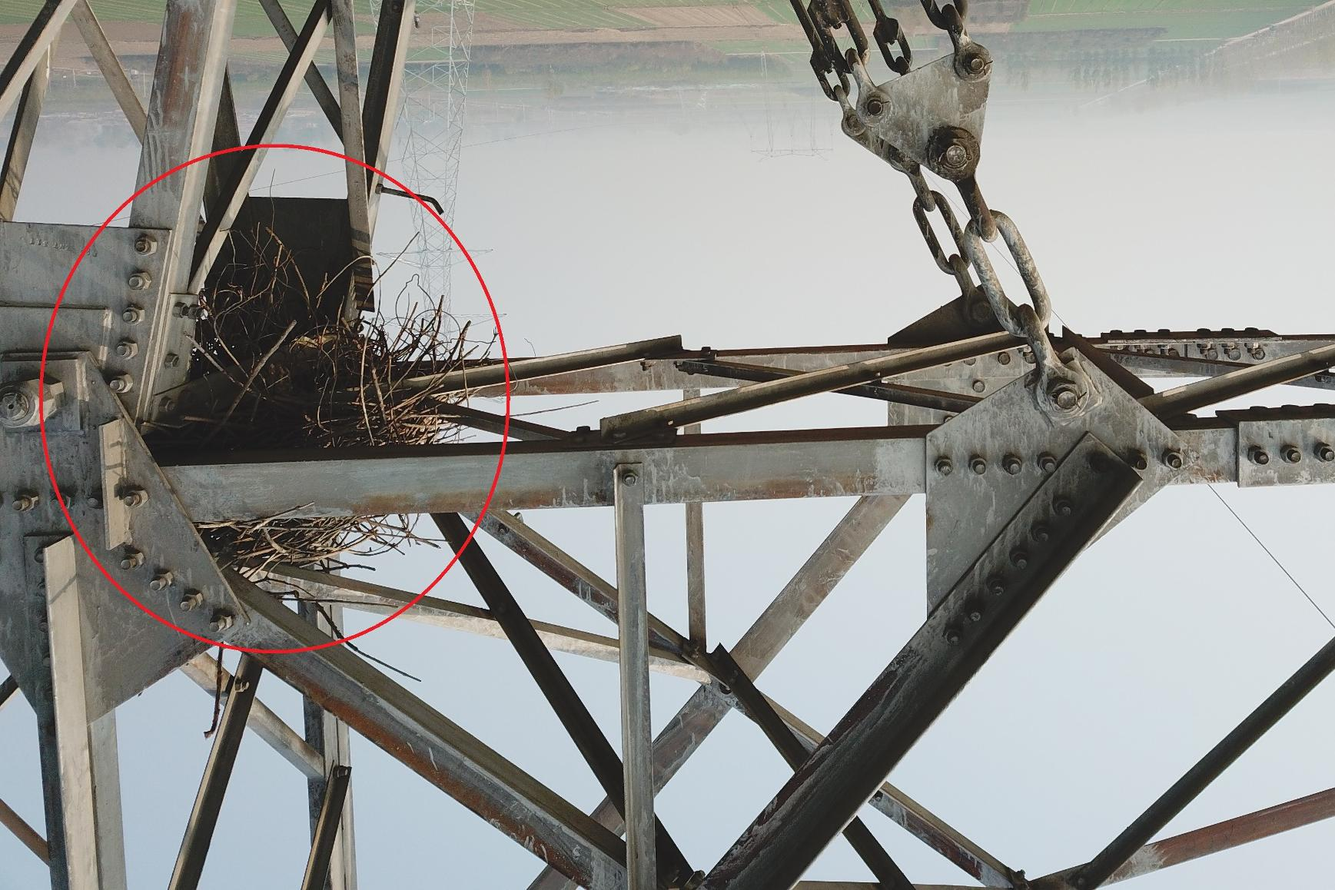nest: (130, 194, 487, 606)
